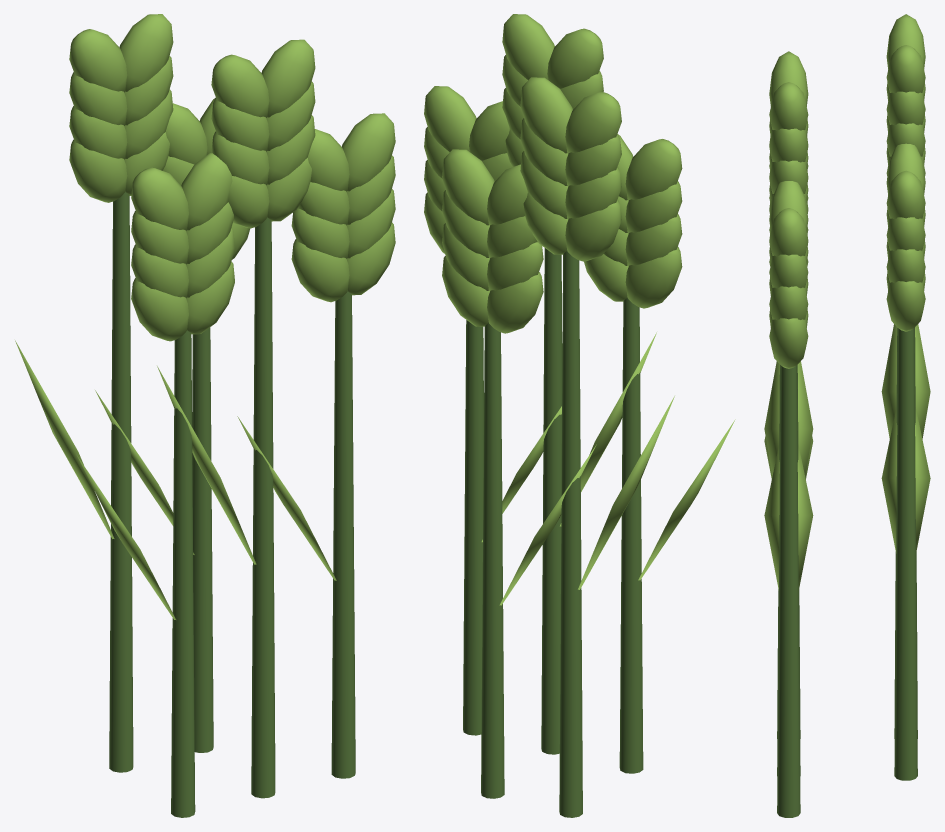
Rendered from crop_1_stage_2.fbx.
3 views of the same model, side by side, from view 1: azimuth 30°, elevation 25°; view 2: azimuth 150°, elevation 25°; view 3: azimuth 270°, elevation 25° (orthographic). The views are drawn at different scales.
Parts seen in each view (by area): view 1: crop_1_stage_2; view 2: crop_1_stage_2; view 3: crop_1_stage_2.
Boxes of the visible parts, <box> form: crop_1_stage_2: <box>15,14,395,817</box>; crop_1_stage_2: <box>424,14,735,817</box>; crop_1_stage_2: <box>764,14,930,817</box>.
Size of the model in its own units: 0.232 by 0.52 by 0.1108.
1 material, 1 textured.
